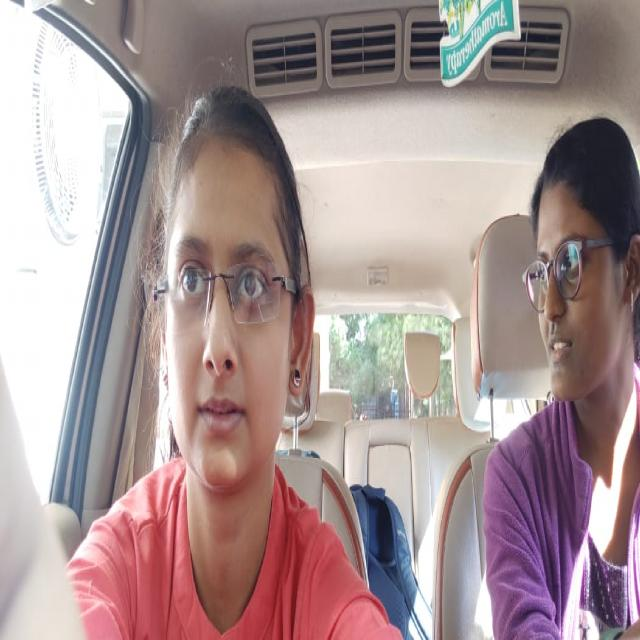LeftRight: (522, 98, 640, 455)
person: (156, 50, 318, 491)
